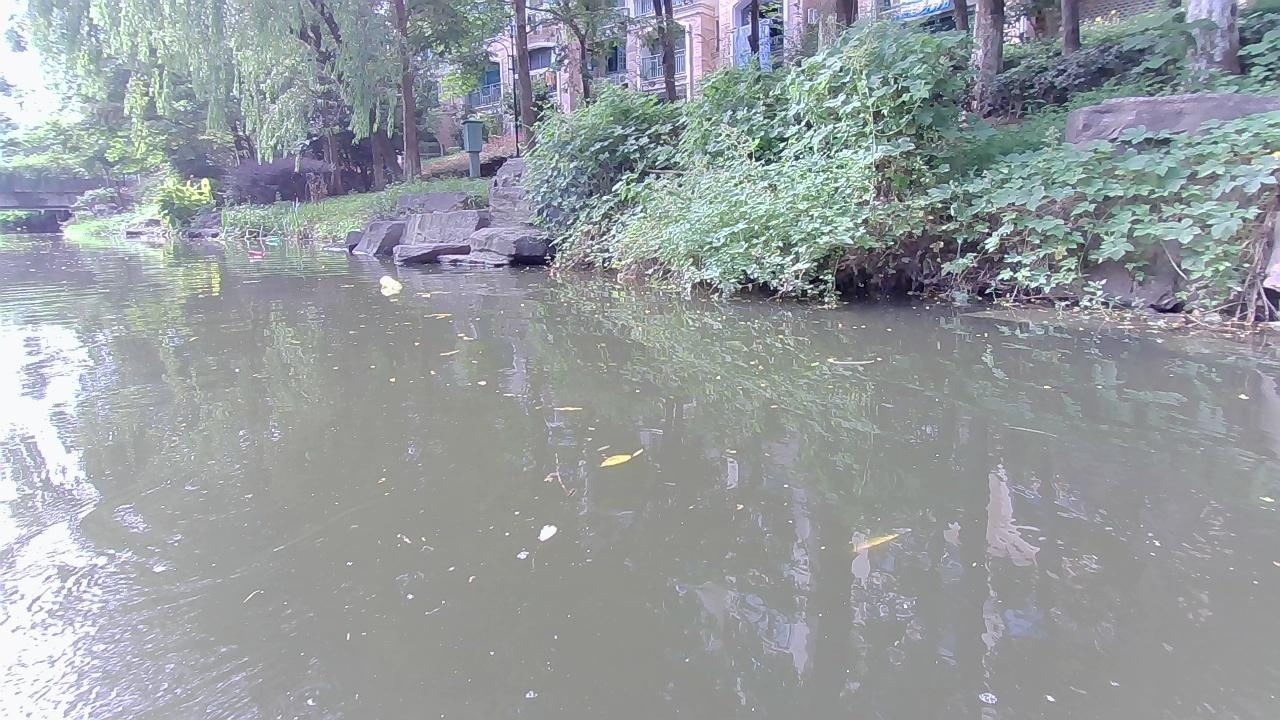bottle: (375, 271, 403, 294), (262, 231, 283, 250), (244, 250, 268, 259)
